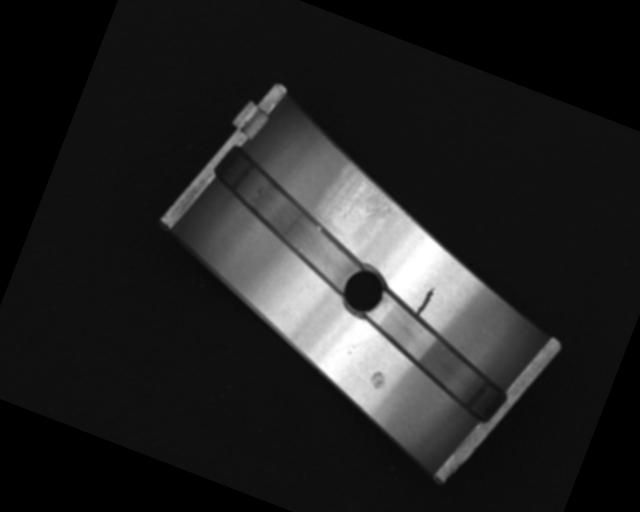bruise: (366, 367, 389, 391)
gap: (195, 149, 382, 294), (348, 295, 522, 423)
hole: (336, 264, 391, 320)
nick: (414, 281, 437, 319)
scratch: (318, 149, 405, 242)
